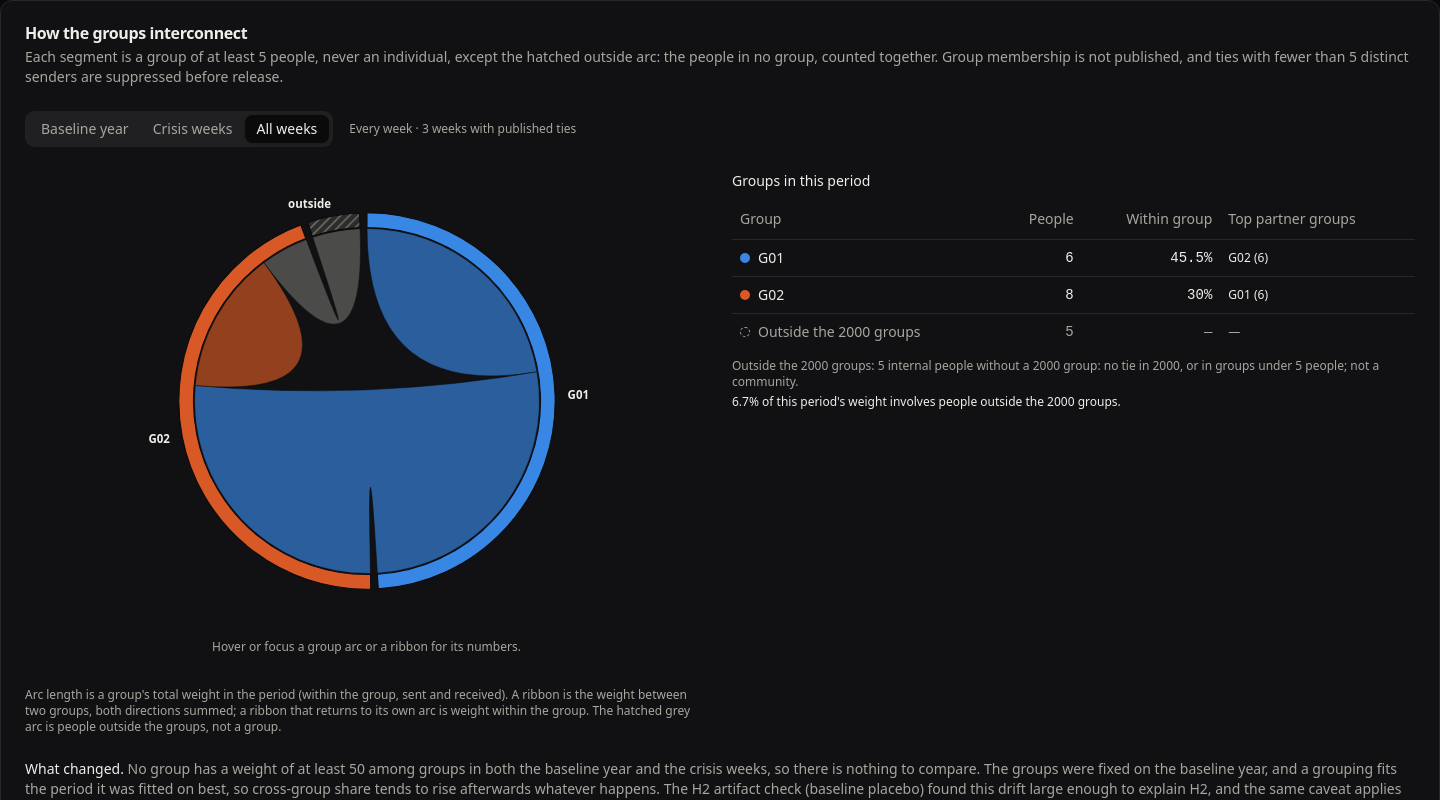
Test: ClusterView › shows the per-group table for the selected period
Click the tab "Baseline year". click: click(85, 129)
box: [29,115,141,143]
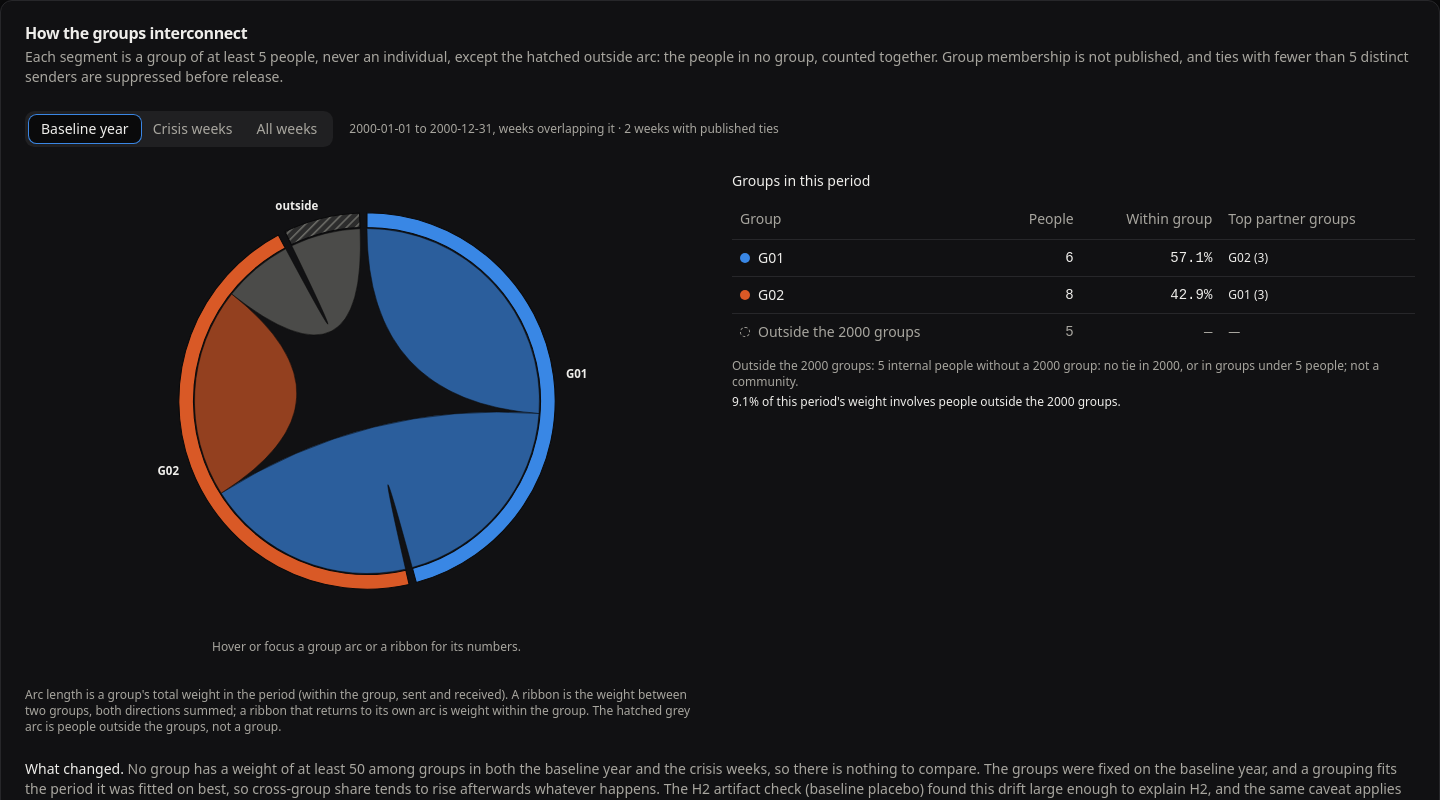
Check: the text with test id "period-weeks" reads "2000-01-01 to 2000-12-31, weeks overlapping it · 2 weeks with published ties", box [349,121,779,137]
Check: the cells read "G02", "8", "42.9%", "G01 (3)", in this order, box [732,276,999,313]; [999,276,1082,313]; [1082,276,1220,313]; [1220,276,1415,313]
Click the tab "Crisis weeks". click: click(193, 129)
box: [141,115,244,143]
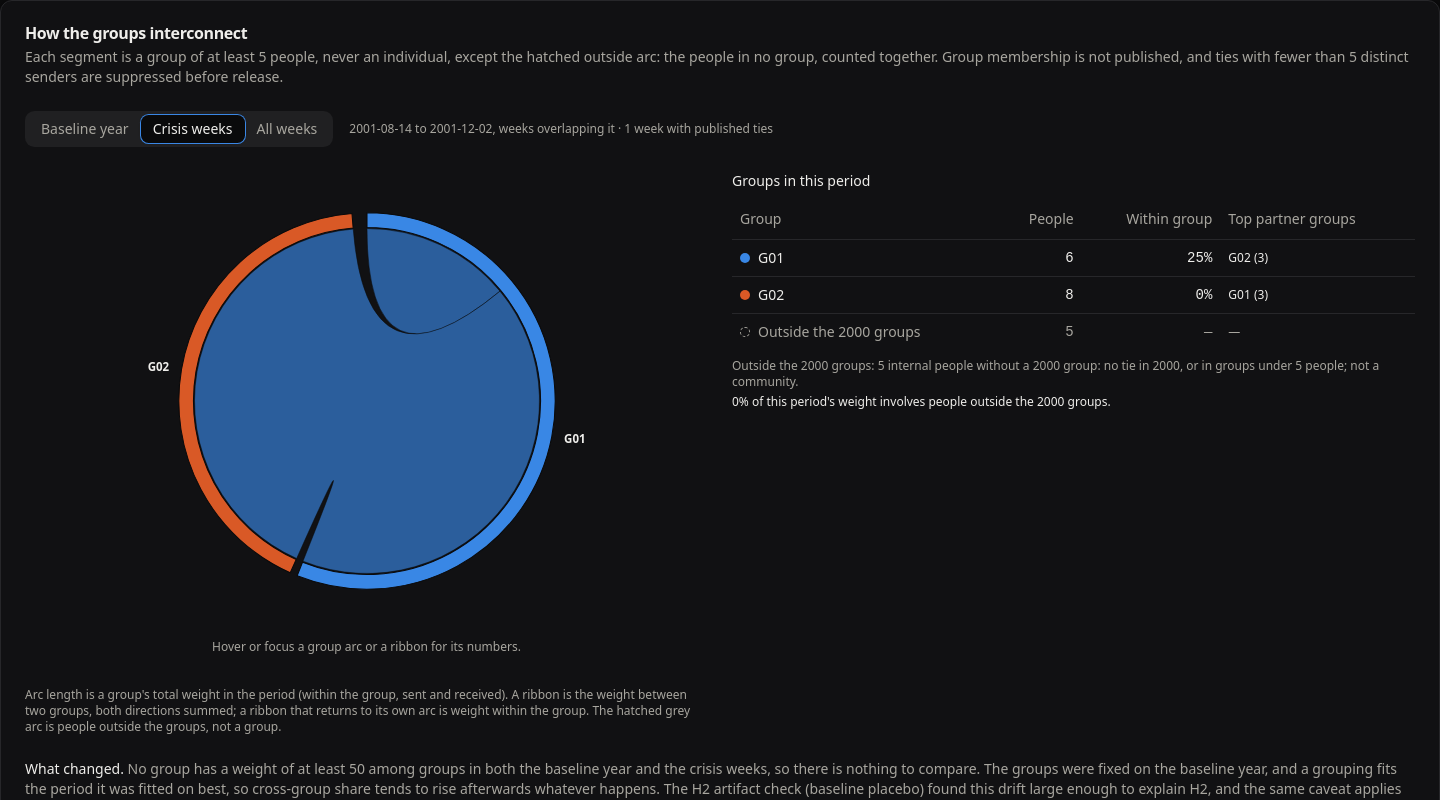
Check: the cells read "Outside the 2000 groups", "5", "—", "—", in this order, box [732,313,999,350]; [999,313,1082,350]; [1082,313,1220,350]; [1220,313,1415,350]
